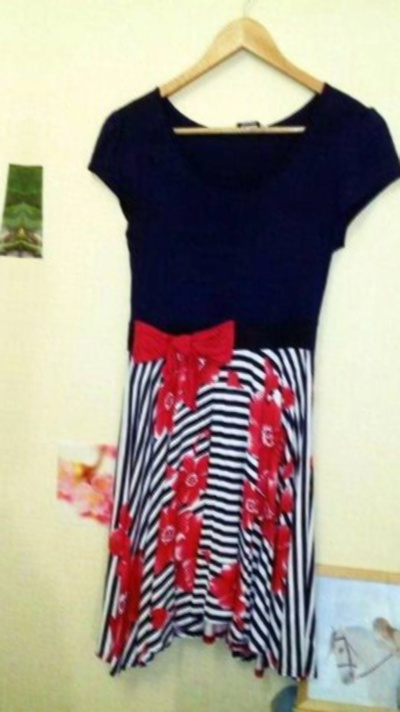Dress: (37, 38, 400, 708)
